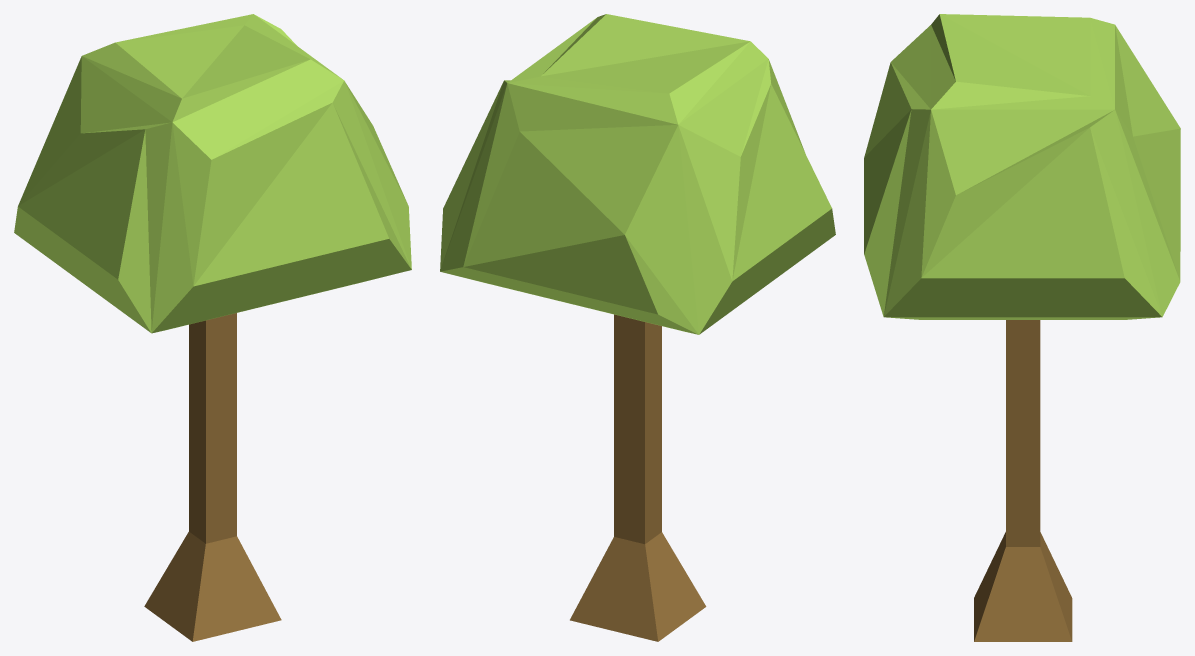
The model's file is tree3.fbx.
3 views of the same model, side by side, from view 1: azimuth 30°, elevation 25°; view 2: azimuth 150°, elevation 25°; view 3: azimuth 270°, elevation 25° (orthographic).
Visible parts, largest first — view 1: Cube_26; view 2: Cube_26; view 3: Cube_26.
Boxes of the visible parts, <box> form: Cube_26: <box>14,14,411,641</box>; Cube_26: <box>440,14,835,641</box>; Cube_26: <box>864,14,1180,641</box>.
Bounding box in the file's own units: 157 × 290 × 146.
